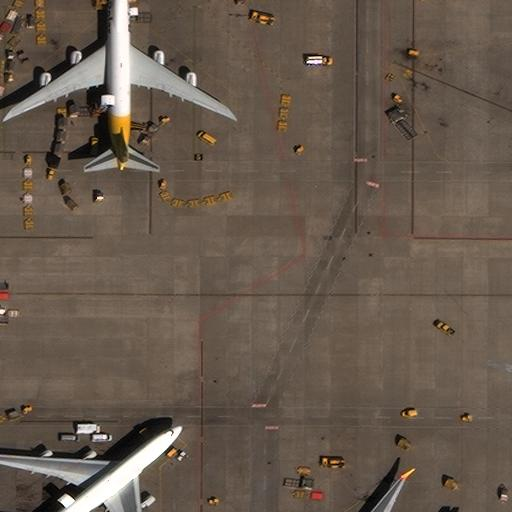Large Civil Transport: (14, 0, 226, 172), (0, 425, 182, 512), (337, 475, 438, 512)
